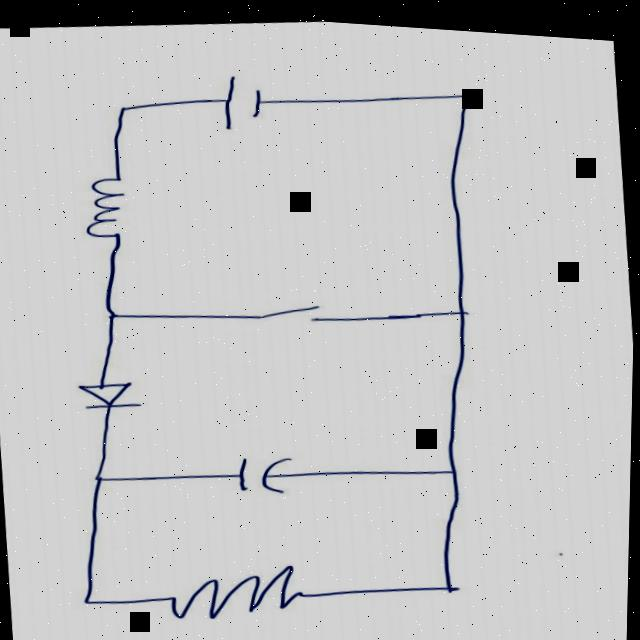capacitor: (197, 427, 316, 514)
diode: (59, 362, 178, 428)
inductor: (45, 144, 176, 265)
resistor: (119, 548, 336, 638)
source: (172, 43, 290, 146)
switch: (217, 278, 358, 350)
